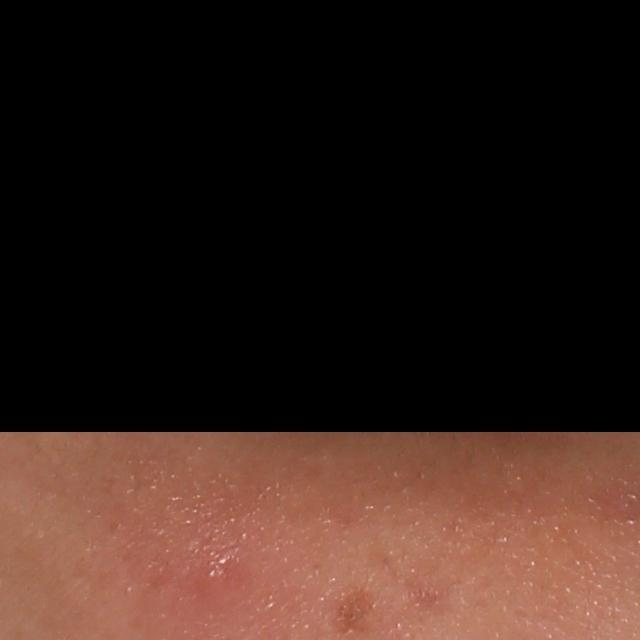papule: (192, 557, 236, 600)
